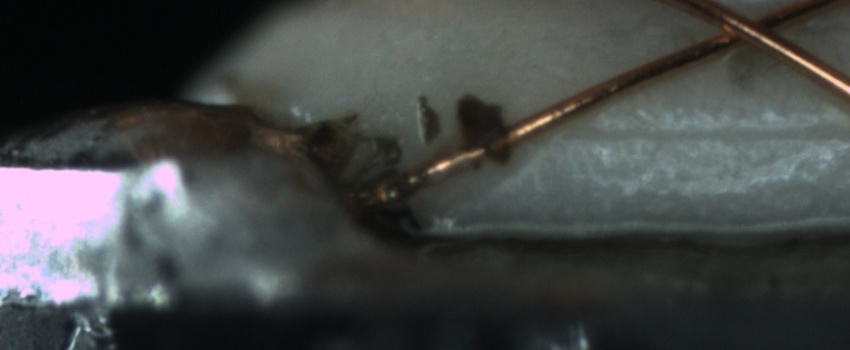CL: (694, 1, 798, 57)
DL: (557, 101, 850, 167)
